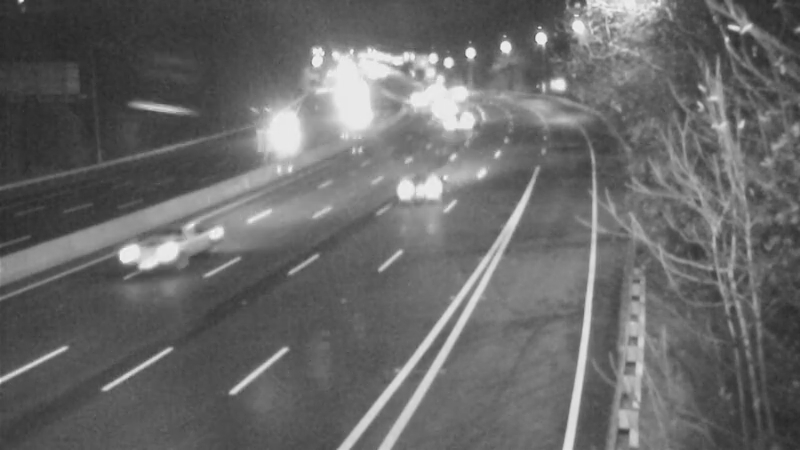vehicle: (380, 149, 460, 229), (109, 215, 189, 295), (432, 69, 482, 119), (393, 72, 443, 122), (413, 79, 463, 129), (431, 95, 481, 145), (253, 111, 303, 161)
